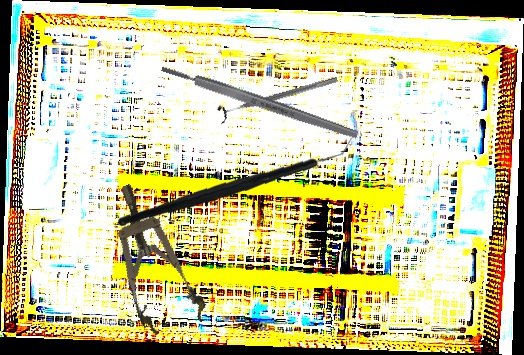Chopper: (117, 123, 355, 240)
Fixation Ring: (215, 70, 341, 125)
Scalpel Handle: (159, 62, 360, 142)
Speculum: (95, 173, 211, 342)
